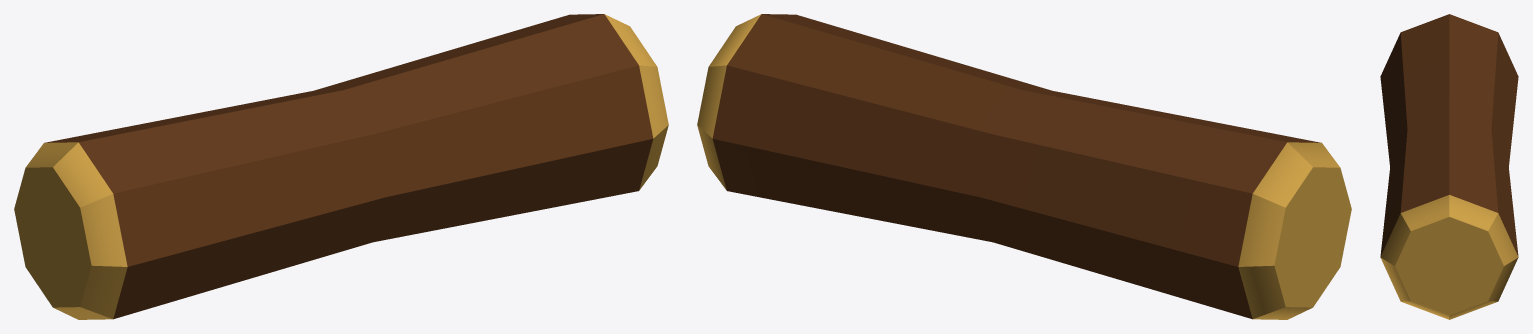
File: Trunk.fbx
3 views of the same model, side by side, from view 1: azimuth 30°, elevation 25°; view 2: azimuth 150°, elevation 25°; view 3: azimuth 270°, elevation 25° (orthographic). The views are drawn at different scales.
Visible parts, largest first — view 1: Trunk; view 2: Trunk; view 3: Trunk.
Boxes of the visible parts, x1,y1,x2,y2 form: Trunk: (14, 14, 668, 319); Trunk: (697, 14, 1351, 319); Trunk: (1380, 14, 1518, 319).
Bounding box in the file's own units: 26.58 × 7.82 × 7.82.
